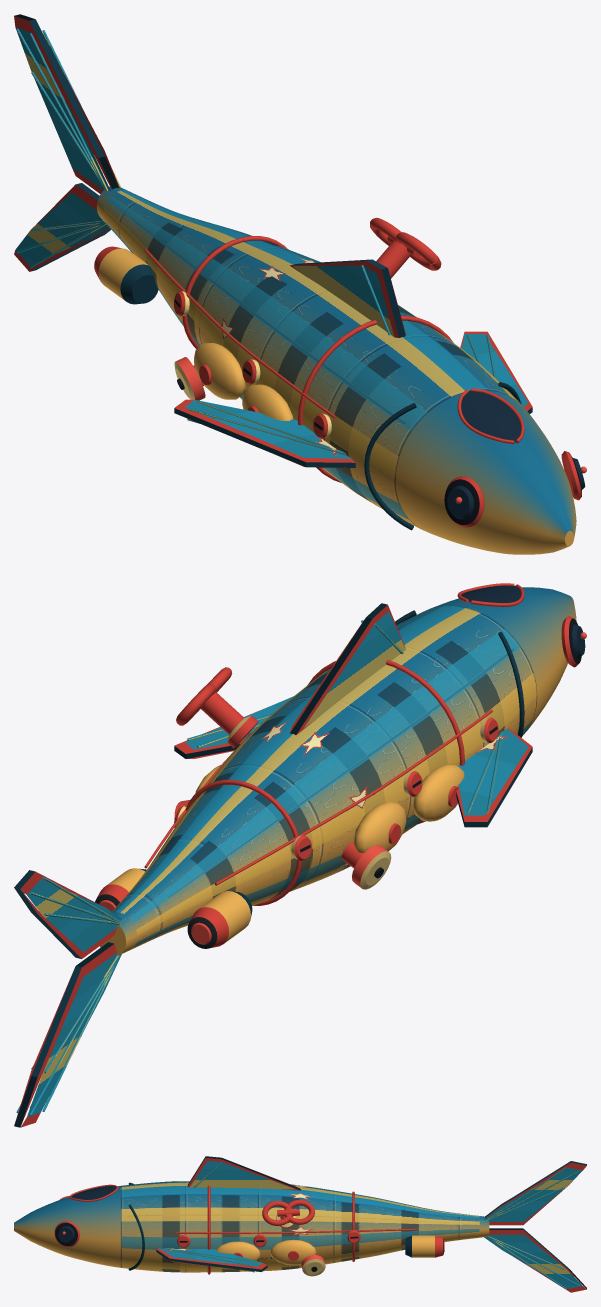
3 views of the same model, one above another, from view 1: azimuth 30°, elevation 25°; view 2: azimuth 150°, elevation 25°; view 3: azimuth 270°, elevation 25° (orthographic). The views are drawn at different scales.
Visible parts, largest first — view 1: pilotfish_hull; view 2: pilotfish_hull; view 3: pilotfish_hull.
Boxes of the visible parts, box(x1,y1,x2,y2) form: pilotfish_hull: box(14, 14, 586, 554); pilotfish_hull: box(14, 583, 586, 1127); pilotfish_hull: box(14, 1156, 586, 1292).
Bounding box in the file's own units: 5.24 × 4.16 × 16.
Materials: 1 (1 with a texture image).
